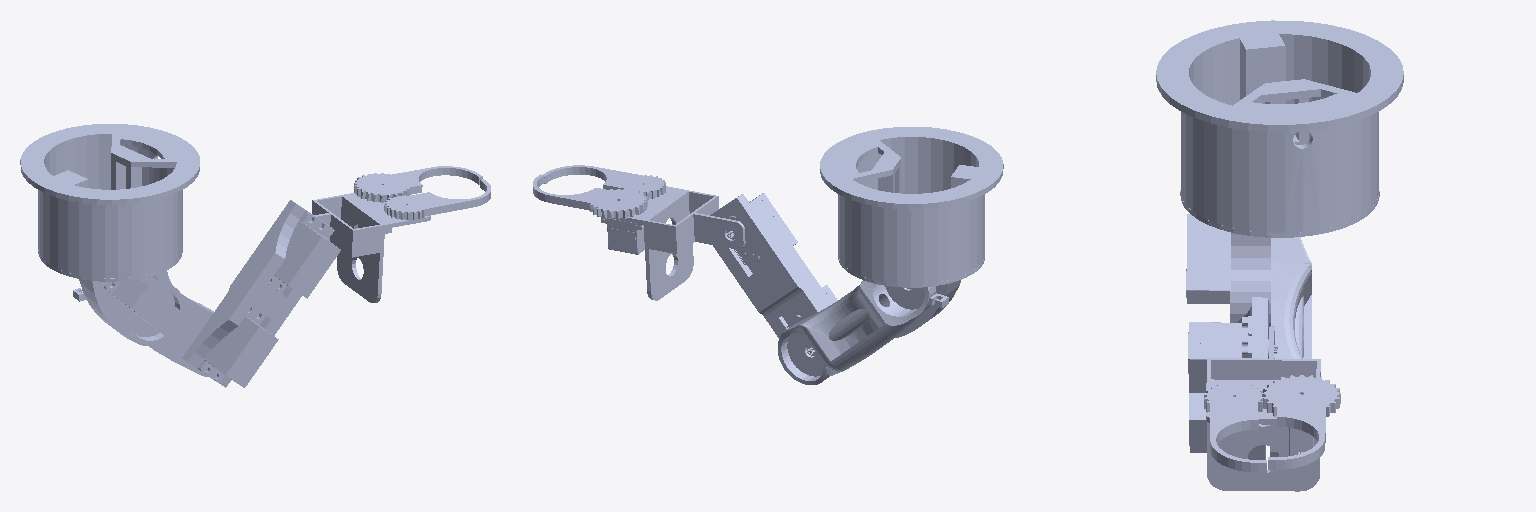
URDF robot description (urdf8):
<?xml version="1.0" encoding="utf-8"?>
<!-- This URDF was automatically created by SolidWorks to URDF Exporter! Originally created by [author] ([email redacted]) 
     Commit Version: 1.6.0-4-g7f85cfe  Build Version: 1.6.7995.38578
     For more information, please see http://wiki.ros.org/sw_urdf_exporter -->
<robot
  name="urdf8">
  <link
    name="base">
    <inertial>
      <origin
        xyz="-0.002798787343705 -0.000668787973165769 -0.0358947813234125"
        rpy="0 0 0" />
      <mass
        value="0.117576323362732" />
      <inertia
        ixx="0.00015779868873959"
        ixy="-5.01783844937632E-06"
        ixz="-1.4460737561261E-06"
        iyy="0.000177598746506274"
        iyz="-3.45545655501686E-07"
        izz="0.00024473449412856" />
    </inertial>
    <visual>
      <origin
        xyz="0 0 0"
        rpy="0 0 0" />
      <geometry>
        <mesh
          filename="package://urdf8/meshes/base.STL" />
      </geometry>
      <material
        name="">
        <color
          rgba="0.792156862745098 0.819607843137255 0.933333333333333 1" />
      </material>
    </visual>
    <collision>
      <origin
        xyz="0 0 0"
        rpy="0 0 0" />
      <geometry>
        <mesh
          filename="package://urdf8/meshes/base.STL" />
      </geometry>
    </collision>
  </link>
  <link
    name="link1">
    <inertial>
      <origin
        xyz="0.00758223575039139 -0.0147620074183949 -0.0253875807727538"
        rpy="0 0 0" />
      <mass
        value="0.08840333539464" />
      <inertia
        ixx="4.77472781804913E-05"
        ixy="1.71020968865959E-06"
        ixz="1.05309164064206E-05"
        iyy="6.17304506360709E-05"
        iyz="-5.15117197057495E-06"
        izz="4.9072559449742E-05" />
    </inertial>
    <visual>
      <origin
        xyz="0 0 0"
        rpy="0 0 0" />
      <geometry>
        <mesh
          filename="package://urdf8/meshes/link1.STL" />
      </geometry>
      <material
        name="">
        <color
          rgba="0.792156862745098 0.819607843137255 0.933333333333333 1" />
      </material>
    </visual>
    <collision>
      <origin
        xyz="0 0 0"
        rpy="0 0 0" />
      <geometry>
        <mesh
          filename="package://urdf8/meshes/link1.STL" />
      </geometry>
    </collision>
  </link>
  <joint
    name="joint1"
    type="revolute">
    <origin
      xyz="0 0 -0.0744"
      rpy="0 0 0" />
    <parent
      link="base" />
    <child
      link="link1" />
    <axis
      xyz="0 0 -1" />
    <limit
      lower="-3.14"
      upper="3.14"
      effort="2.5"
      velocity="5.7596" />
  </joint>
  <link
    name="link2">
    <inertial>
      <origin
        xyz="0.0346151639525546 0.0355768768357464 0.00416163719085617"
        rpy="0 0 0" />
      <mass
        value="0.0545469222918198" />
      <inertia
        ixx="3.00298191359487E-05"
        ixy="-2.16219161308692E-05"
        ixz="5.00402487402588E-07"
        iyy="3.51516042669812E-05"
        iyz="-2.26086826174625E-09"
        izz="6.22086371750844E-05" />
    </inertial>
    <visual>
      <origin
        xyz="0 0 0"
        rpy="0 0 0" />
      <geometry>
        <mesh
          filename="package://urdf8/meshes/link2.STL" />
      </geometry>
      <material
        name="">
        <color
          rgba="0.792156862745098 0.819607843137255 0.933333333333333 1" />
      </material>
    </visual>
    <collision>
      <origin
        xyz="0 0 0"
        rpy="0 0 0" />
      <geometry>
        <mesh
          filename="package://urdf8/meshes/link2.STL" />
      </geometry>
    </collision>
  </link>
  <joint
    name="joint2"
    type="revolute">
    <origin
      xyz="0.0042193 -0.0012697 -0.024474"
      rpy="-1.5708 0 0" />
    <parent
      link="link1" />
    <child
      link="link2" />
    <axis
      xyz="0.0085622 0 0.99996" />
    <limit
      lower="-3.14"
      upper="3.14"
      effort="0.83357"
      velocity="5.235" />
  </joint>
  <link
    name="link 3">
    <inertial>
      <origin
        xyz="0.0312830067884634 -0.0360251292453755 -0.019561757632485"
        rpy="0 0 0" />
      <mass
        value="0.109552734705227" />
      <inertia
        ixx="4.48698317555812E-05"
        ixy="2.26550422447022E-05"
        ixz="-2.87243136600507E-07"
        iyy="3.86949704025969E-05"
        iyz="3.62531130157239E-07"
        izz="6.80559532513952E-05" />
    </inertial>
    <visual>
      <origin
        xyz="0 0 0"
        rpy="0 0 0" />
      <geometry>
        <mesh
          filename="package://urdf8/meshes/link 3.STL" />
      </geometry>
      <material
        name="">
        <color
          rgba="0.792156862745098 0.819607843137255 0.933333333333333 1" />
      </material>
    </visual>
    <collision>
      <origin
        xyz="0 0 0"
        rpy="0 0 0" />
      <geometry>
        <mesh
          filename="package://urdf8/meshes/link 3.STL" />
      </geometry>
    </collision>
  </link>
  <joint
    name="joint 3"
    type="revolute">
    <origin
      xyz="0.074524 0.066695 0"
      rpy="0 0 0" />
    <parent
      link="link2" />
    <child
      link="link 3" />
    <axis
      xyz="0.0085622 0 0.99996" />
    <limit
      lower="-3.14"
      upper="3.14"
      effort="0.83357"
      velocity="5.235" />
  </joint>
  <link
    name="link4">
    <inertial>
      <origin
        xyz="0.0559146794769019 0.00903096671705724 -0.00188019275313241"
        rpy="0 0 0" />
      <mass
        value="0.0276993652387335" />
      <inertia
        ixx="1.23913829764162E-05"
        ixy="7.97928414709262E-07"
        ixz="4.72419198626583E-07"
        iyy="1.40432359091699E-05"
        iyz="-9.10851350583402E-08"
        izz="1.46646763170855E-05" />
    </inertial>
    <visual>
      <origin
        xyz="0 0 0"
        rpy="0 0 0" />
      <geometry>
        <mesh
          filename="package://urdf8/meshes/link4.STL" />
      </geometry>
      <material
        name="">
        <color
          rgba="0.792156862745098 0.819607843137255 0.933333333333333 1" />
      </material>
    </visual>
    <collision>
      <origin
        xyz="0 0 0"
        rpy="0 0 0" />
      <geometry>
        <mesh
          filename="package://urdf8/meshes/link4.STL" />
      </geometry>
    </collision>
  </link>
  <joint
    name="joint4"
    type="revolute">
    <origin
      xyz="0.061842 -0.070856 0"
      rpy="0 0 0" />
    <parent
      link="link 3" />
    <child
      link="link4" />
    <axis
      xyz="0.0085622 0 0.99996" />
    <limit
      lower="-3.14"
      upper="3.14"
      effort="0.83357"
      velocity="5.235" />
  </joint>
  <link
    name="gripkiri">
    <inertial>
      <origin
        xyz="0.0102103861061646 -0.000946158150180475 -0.0122706827543496"
        rpy="0 0 0" />
      <mass
        value="0.0065727281590335" />
      <inertia
        ixx="3.72222524876934E-07"
        ixy="8.07999040268114E-08"
        ixz="-6.9735364606055E-22"
        iyy="2.65239915156597E-06"
        iyz="-6.81390029590557E-23"
        izz="2.99148417197445E-06" />
    </inertial>
    <visual>
      <origin
        xyz="0 0 0"
        rpy="0 0 0" />
      <geometry>
        <mesh
          filename="package://urdf8/meshes/gripkiri.STL" />
      </geometry>
      <material
        name="">
        <color
          rgba="0.792156862745098 0.819607843137255 0.933333333333333 1" />
      </material>
    </visual>
    <collision>
      <origin
        xyz="0 0 0"
        rpy="0 0 0" />
      <geometry>
        <mesh
          filename="package://urdf8/meshes/gripkiri.STL" />
      </geometry>
    </collision>
  </link>
  <joint
    name="joint5"
    type="prismatic">
    <origin
      xyz="0.083016 -0.020313 -0.021146"
      rpy="1.5713 0.0085484 0.057021" />
    <parent
      link="link4" />
    <child
      link="gripkiri" />
    <axis
      xyz="0 3.4023E-05 1" />
    <limit
      lower="-3.14"
      upper="3.14"
      effort="0.21575"
      velocity="10.47" />
  </joint>
  <link
    name="endgripkiri">
    <inertial>
      <origin
        xyz="-0.225488820825547 -0.00261481424943566 -0.0323528901501244"
        rpy="0 0 0" />
      <mass
        value="0.412109979987817" />
      <inertia
        ixx="0.000970300783016983"
        ixy="8.28072715720991E-05"
        ixz="0.000453702420419503"
        iyy="0.0030446952616854"
        iyz="-8.39543879583687E-05"
        izz="0.0024735672064327" />
    </inertial>
    <visual>
      <origin
        xyz="0 0 0"
        rpy="0 0 0" />
      <geometry>
        <mesh
          filename="package://urdf8/meshes/endgripkiri.STL" />
      </geometry>
      <material
        name="">
        <color
          rgba="1 1 1 1" />
      </material>
    </visual>
    <collision>
      <origin
        xyz="0 0 0"
        rpy="0 0 0" />
      <geometry>
        <mesh
          filename="package://urdf8/meshes/endgripkiri.STL" />
      </geometry>
    </collision>
  </link>
  <joint
    name="joint7"
    type="fixed">
    <origin
      xyz="0.059583 0.016649 0.0034011"
      rpy="0 0 0.0085762" />
    <parent
      link="gripkiri" />
    <child
      link="endgripkiri" />
    <axis
      xyz="0 0 0" />
  </joint>
  <link
    name="gripkanan">
    <inertial>
      <origin
        xyz="0.00660617289542156 0.000842256026962583 -0.0106304834353389"
        rpy="0 0 0" />
      <mass
        value="0.00775853356912643" />
      <inertia
        ixx="6.57744413884202E-07"
        ixy="-1.30075873954109E-07"
        ixz="2.02610214855018E-09"
        iyy="3.28268763338046E-06"
        iyz="6.45404637207541E-10"
        izz="3.90173652974352E-06" />
    </inertial>
    <visual>
      <origin
        xyz="0 0 0"
        rpy="0 0 0" />
      <geometry>
        <mesh
          filename="package://urdf8/meshes/gripkanan.STL" />
      </geometry>
      <material
        name="">
        <color
          rgba="0.792156862745098 0.819607843137255 0.933333333333333 1" />
      </material>
    </visual>
    <collision>
      <origin
        xyz="0 0 0"
        rpy="0 0 0" />
      <geometry>
        <mesh
          filename="package://urdf8/meshes/gripkanan.STL" />
      </geometry>
    </collision>
  </link>
  <joint
    name="joint6"
    type="continuous">
    <origin
      xyz="0.0826139292260836 -0.0203132106701937 0.0118612863507985"
      rpy="1.57128428656035 0.00854836517951344 0.0570210519672229" />
    <parent
      link="link4" />
    <child
      link="gripkanan" />
    <axis
      xyz="0 -3.4022805302668E-05 -0.999999999421224" />
    <limit
      lower="-3.14"
      upper="3.14"
      effort="0.21575"
      velocity="10.47" />
  </joint>
  <link
    name="endgripkanan">
    <inertial>
      <origin
        xyz="-0.224622455908069 -0.00316059790951394 -0.032303343295095"
        rpy="0 0 0" />
      <mass
        value="0.412109979987817" />
      <inertia
        ixx="0.000970300205908475"
        ixy="8.27878311584546E-05"
        ixz="0.000453704977004127"
        iyy="0.0030447012950977"
        iyz="-8.39340526772723E-05"
        izz="0.00247356175012891" />
    </inertial>
    <visual>
      <origin
        xyz="0 0 0"
        rpy="0 0 0" />
      <geometry>
        <mesh
          filename="package://urdf8/meshes/endgripkanan.STL" />
      </geometry>
      <material
        name="">
        <color
          rgba="1 1 1 1" />
      </material>
    </visual>
    <collision>
      <origin
        xyz="0 0 0"
        rpy="0 0 0" />
      <geometry>
        <mesh
          filename="package://urdf8/meshes/endgripkanan.STL" />
      </geometry>
    </collision>
  </link>
  <joint
    name="joint8"
    type="fixed">
    <origin
      xyz="0.059396067423535 -0.0158147030144797 0.00339037738752482"
      rpy="-3.40216416031779E-05 0 0.0085742753884289" />
    <parent
      link="gripkanan" />
    <child
      link="endgripkanan" />
    <axis
      xyz="0 0 0" />
  </joint>
</robot>

--- Render facts (derived) ---
Views: 3 orthographic renders of the robot side by side, from view 1: azimuth 30°, elevation 25°; view 2: azimuth 150°, elevation 25°; view 3: azimuth 270°, elevation 25°.
Model urdf8 with 9 links and 8 joints (4 revolute, 1 continuous, 1 prismatic, 2 fixed), rooted at base, posed all joints at 0.
Visible links, largest first — view 1: base, link 3, link1, link4, gripkanan, gripkiri, link2; view 2: base, link2, link 3, link4, gripkanan, gripkiri, link1; view 3: base, link4, link1, link 3, link2, gripkanan, gripkiri.
Link boxes in pixels (box(x1,y1,x2,y2)): base: box(20, 124, 199, 278); link 3: box(182, 200, 340, 387); link1: box(38, 250, 184, 345); link4: box(300, 193, 430, 302); gripkanan: box(354, 166, 482, 202); gripkiri: box(384, 179, 490, 220); link2: box(73, 285, 213, 376); base: box(820, 127, 1003, 283); link2: box(778, 281, 948, 384); link 3: box(710, 193, 837, 355); link4: box(601, 186, 745, 300); gripkanan: box(533, 174, 647, 218); gripkiri: box(543, 165, 665, 199); link1: box(838, 257, 984, 337); base: box(1156, 20, 1403, 232); link4: box(1206, 326, 1320, 491); link1: box(1180, 190, 1379, 326); link 3: box(1188, 297, 1277, 459); link2: box(1270, 237, 1311, 456); gripkanan: box(1262, 375, 1340, 469); gripkiri: box(1204, 382, 1266, 472).
Bounding box of the posed robot: 0.3488 × 0.122 × 0.1823 m (x, y, z).
7 mesh visuals loaded from 9 distinct referenced files (7 binary STL); not drawn: 2 (file found but could not be loaded).